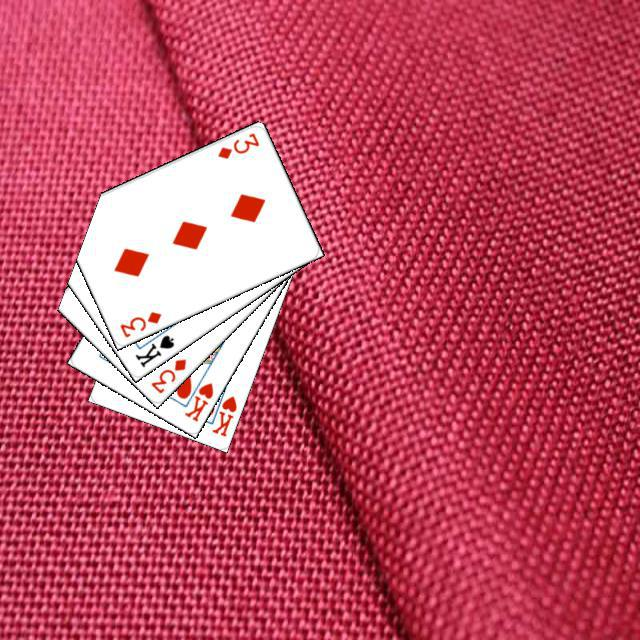3d: (146, 354, 188, 395), (115, 306, 163, 339), (213, 128, 261, 161)
Kh: (178, 369, 215, 423), (204, 383, 238, 438)
Ks: (130, 330, 176, 369)
